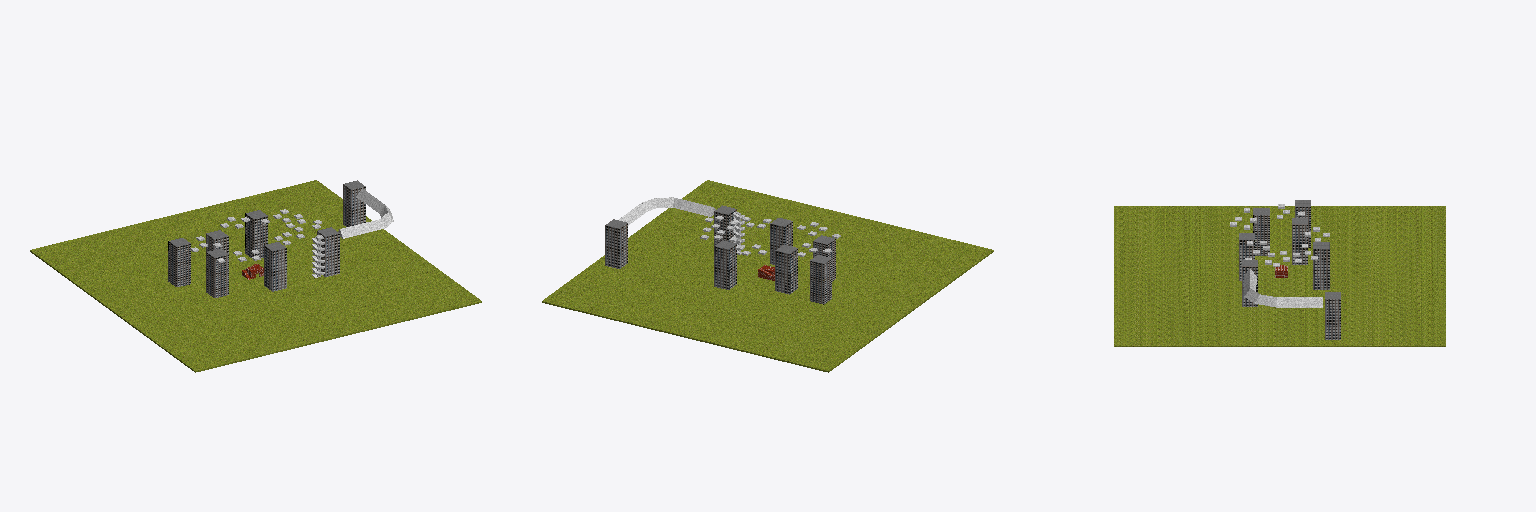
The picture shows the model from 3 angles: view 1: azimuth 30°, elevation 25°; view 2: azimuth 150°, elevation 25°; view 3: azimuth 270°, elevation 25°; orthographic projection.
Visible parts, largest first — view 1: Cube, Cube.034, Cube.086, Cube.031, Cube.036, Cube.092, Cube.037; view 2: Cube, Cube.092, Cube.036, Cube.035, Cube.086, Cube.034; view 3: Cube, Cube.036, Cube.092, Cube.031, Cube.035.
Boxes of the visible parts, <box> form: Cube: <box>30,180,481,372</box>; Cube.034: <box>264,242,286,291</box>; Cube.086: <box>168,238,190,286</box>; Cube.031: <box>206,249,228,297</box>; Cube.036: <box>245,210,267,257</box>; Cube.092: <box>343,180,365,226</box>; Cube.037: <box>317,227,339,276</box>; Cube: <box>542,180,993,372</box>; Cube.092: <box>605,219,627,268</box>; Cube.036: <box>714,240,736,289</box>; Cube.035: <box>775,245,797,294</box>; Cube.086: <box>810,255,831,304</box>; Cube.034: <box>770,218,792,264</box>; Cube: <box>1114,206,1445,346</box>; Cube.036: <box>1313,242,1329,289</box>; Cube.092: <box>1325,292,1340,339</box>; Cube.031: <box>1253,208,1269,255</box>; Cube.035: <box>1292,218,1307,264</box>.
Bounding box in the file's own units: 200 × 28.1 × 200.
5 materials, 4 textured.